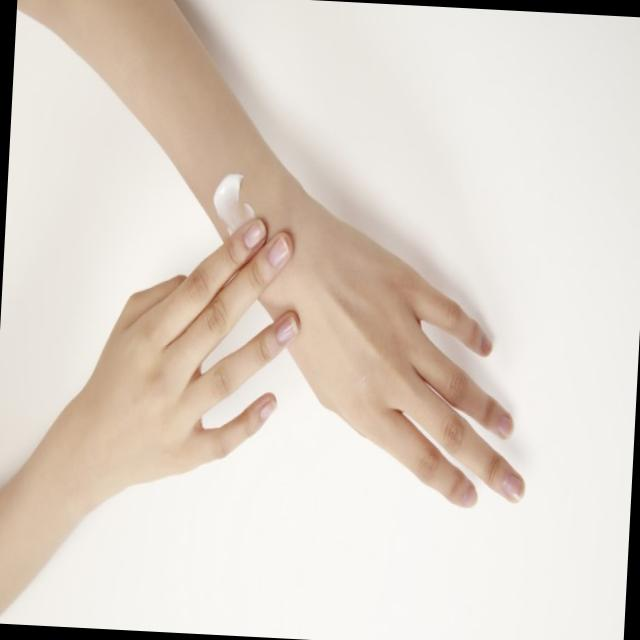Nail: (274, 313, 298, 342), (502, 473, 525, 503), (243, 219, 264, 248), (268, 235, 287, 264), (462, 483, 479, 508), (495, 413, 513, 436), (478, 329, 494, 354), (260, 394, 274, 417)
